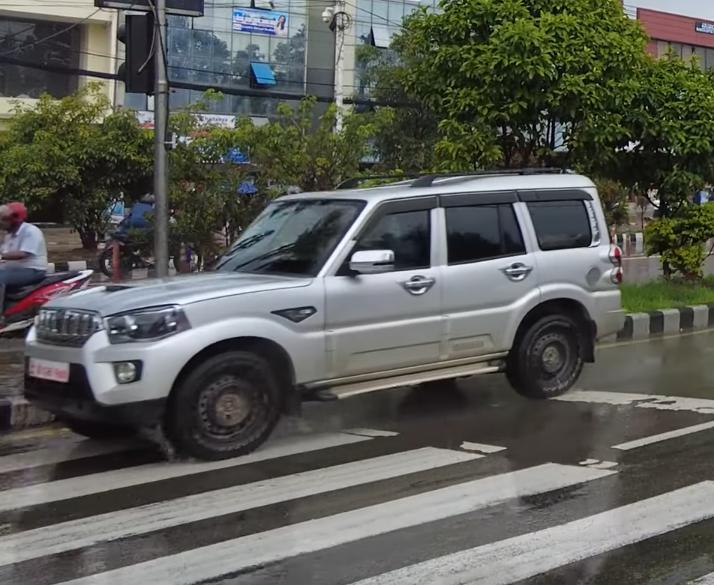SUV: (15, 160, 628, 461)
